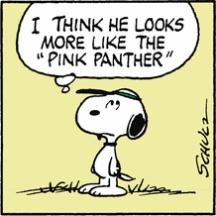snoopy: (74, 88, 148, 198)
